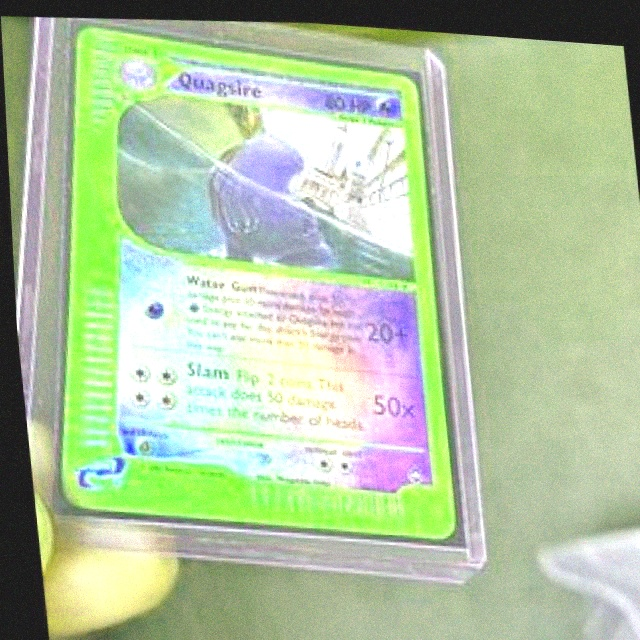card: (53, 24, 454, 534)
